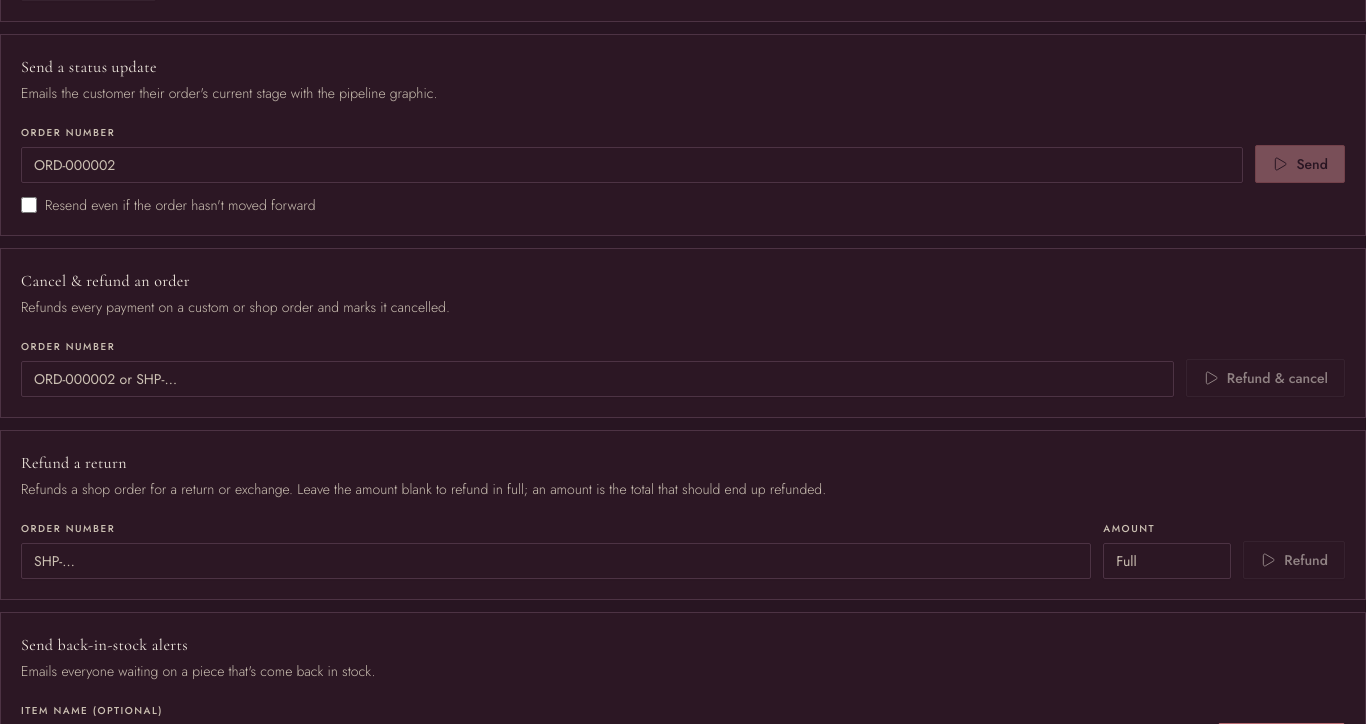
it: StudioTools › re-asks when the order number is edited after confirming was opened
(page scrolled)
Type "ORD-000002" into the field with test id "tool-cancellation-refund-order".
click(597, 379); type("ORD-000002")  # box 21,361 -> 1174,397
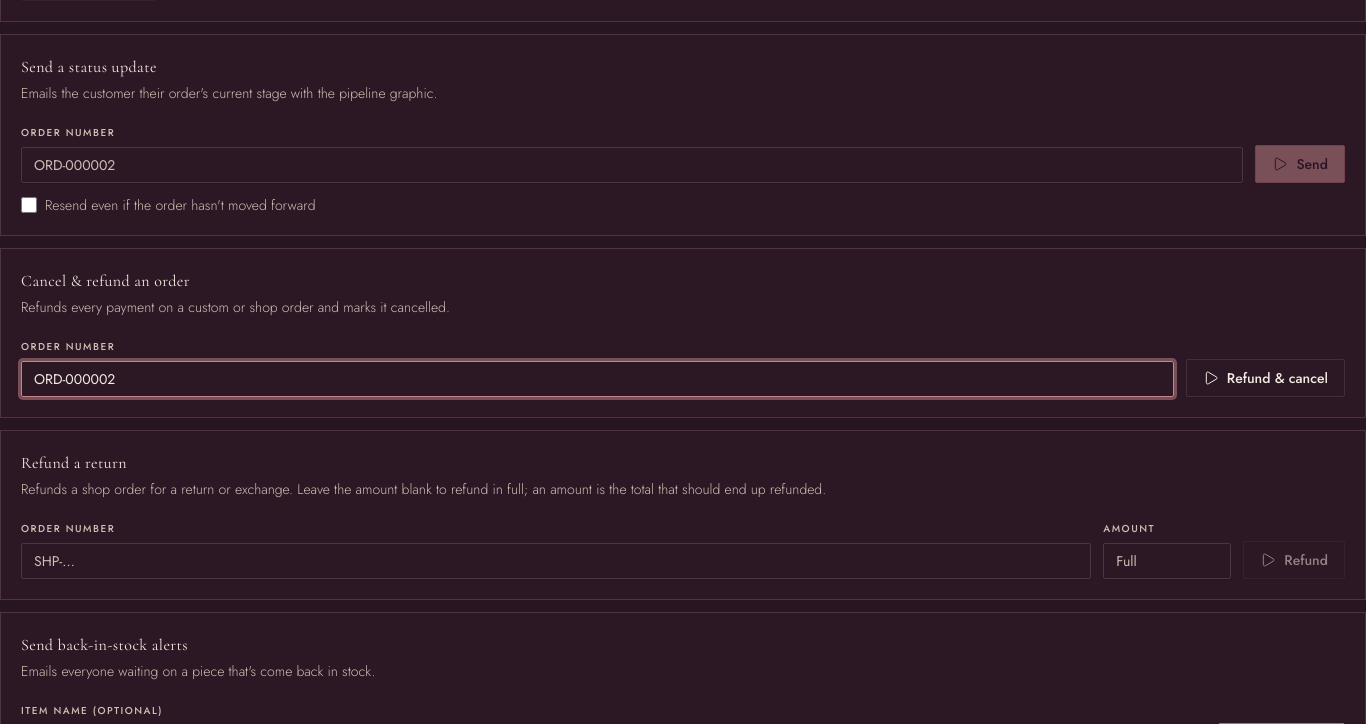
Click the button with test id "tool-cancellation-refund-run".
click(1265, 378)  # box 1186,359 -> 1345,397
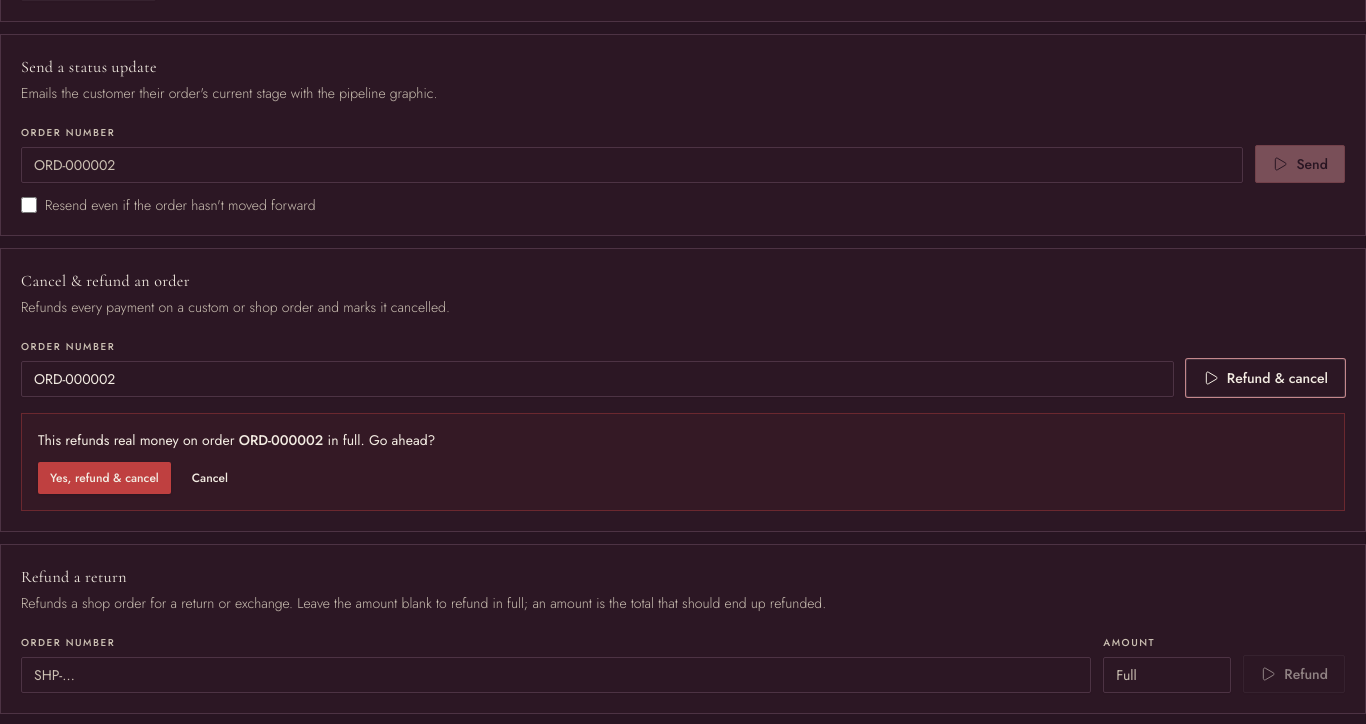
Type "9" into the field with test id "tool-cancellation-refund-order".
click(597, 379); type("9")  # box 21,361 -> 1174,397
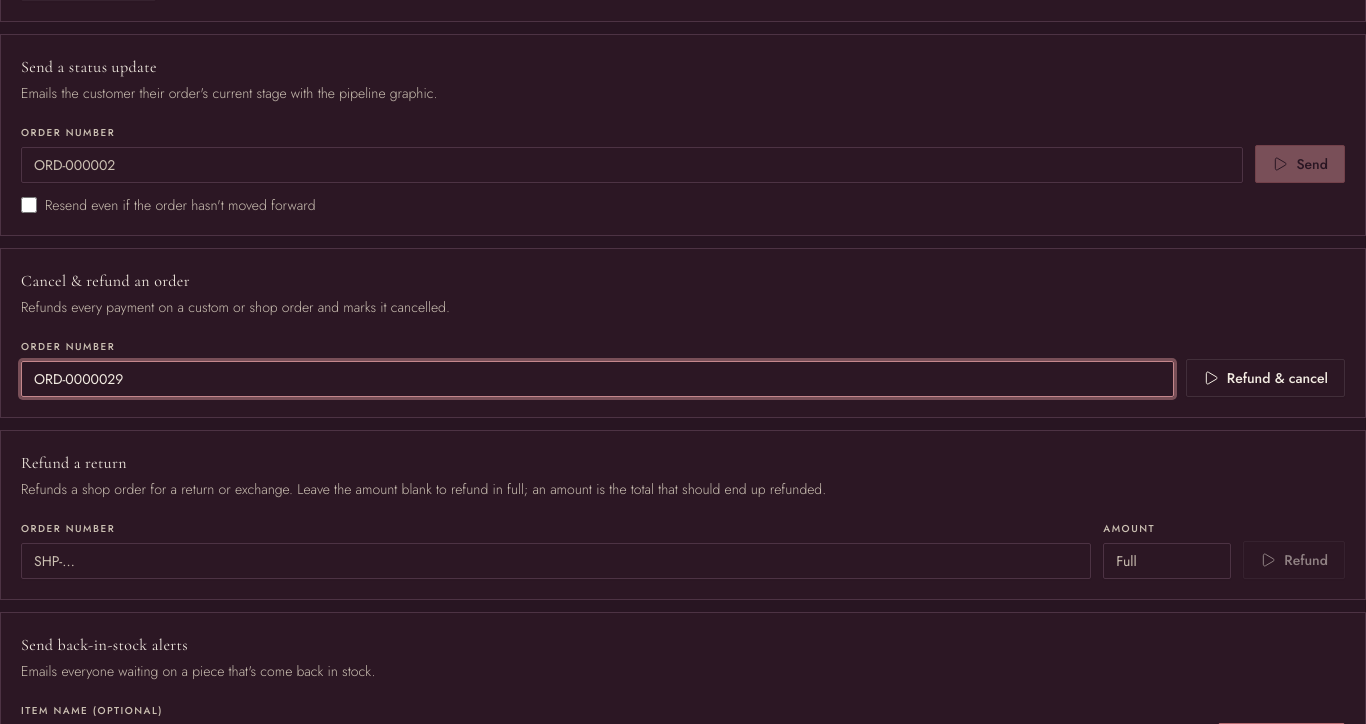
Expected: the element with test id "tool-cancellation-refund-confirm" is gone
